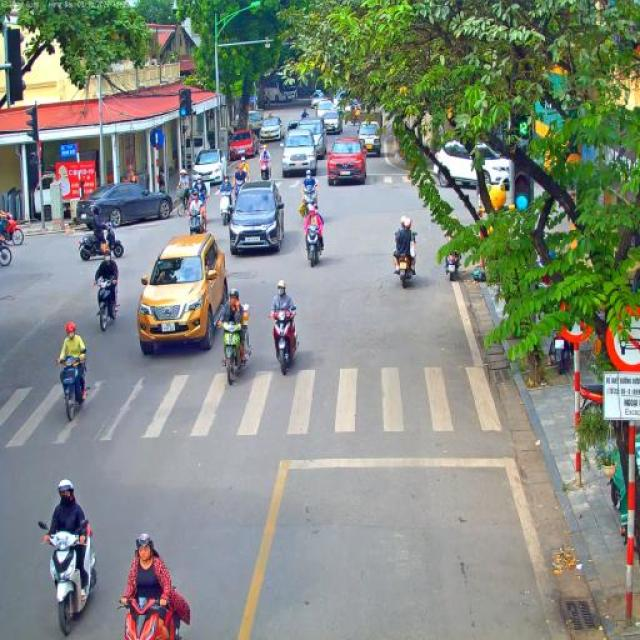bus: (263, 70, 298, 105)
car: (136, 232, 230, 356), (76, 182, 172, 228), (228, 180, 286, 256), (434, 138, 510, 191), (327, 136, 368, 186), (280, 128, 318, 178), (191, 148, 229, 196), (296, 118, 328, 160), (229, 129, 256, 162), (358, 121, 382, 158), (258, 116, 284, 143), (322, 110, 343, 136), (316, 99, 334, 122), (310, 90, 324, 110), (286, 121, 299, 137)
motorcycle: (38, 519, 98, 637), (118, 595, 182, 640), (215, 316, 254, 386), (56, 348, 89, 422), (270, 305, 300, 376), (78, 221, 124, 261), (94, 278, 118, 332), (579, 384, 603, 431), (304, 224, 324, 268), (552, 330, 572, 374), (0, 212, 24, 246), (395, 250, 415, 289), (298, 184, 318, 218), (218, 190, 234, 226), (188, 208, 208, 236), (444, 250, 460, 282), (192, 189, 208, 213), (0, 238, 12, 266), (260, 157, 272, 181), (232, 178, 247, 194)
truck: (246, 110, 264, 140)
